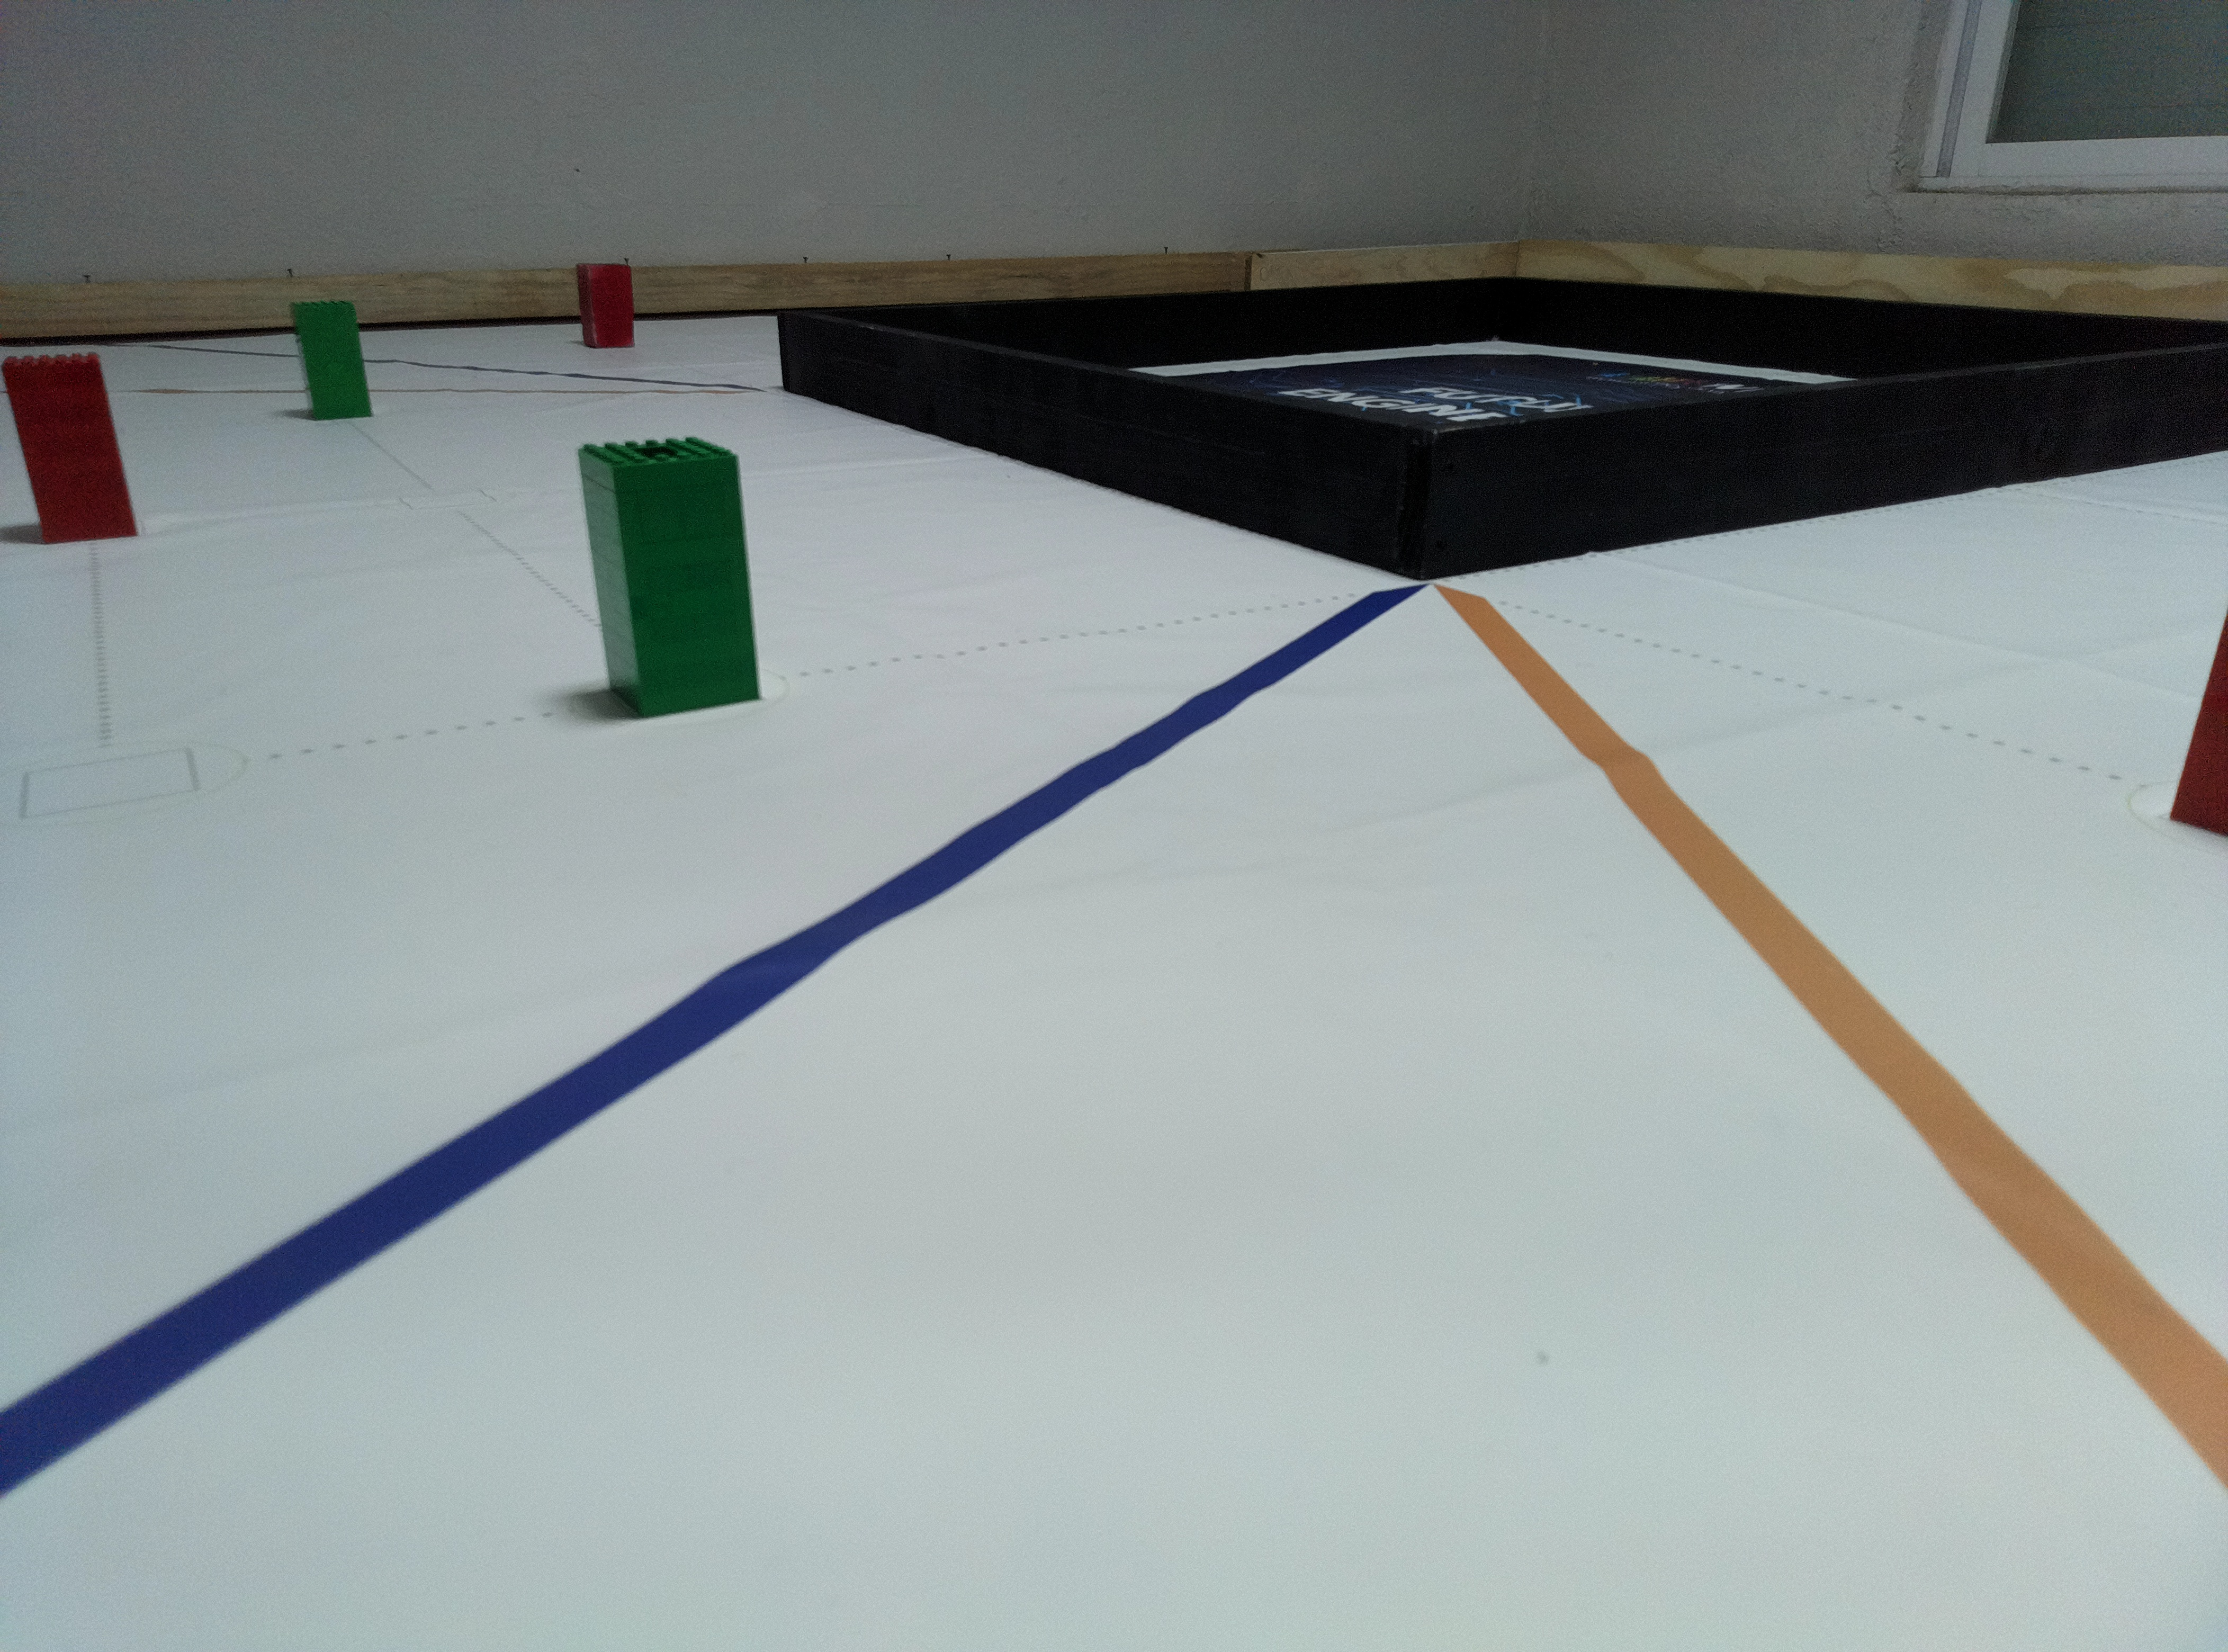greenbox: (564, 429, 772, 718), (286, 297, 382, 432)
redbox: (0, 342, 158, 559), (2167, 588, 2228, 842), (576, 265, 640, 357)
